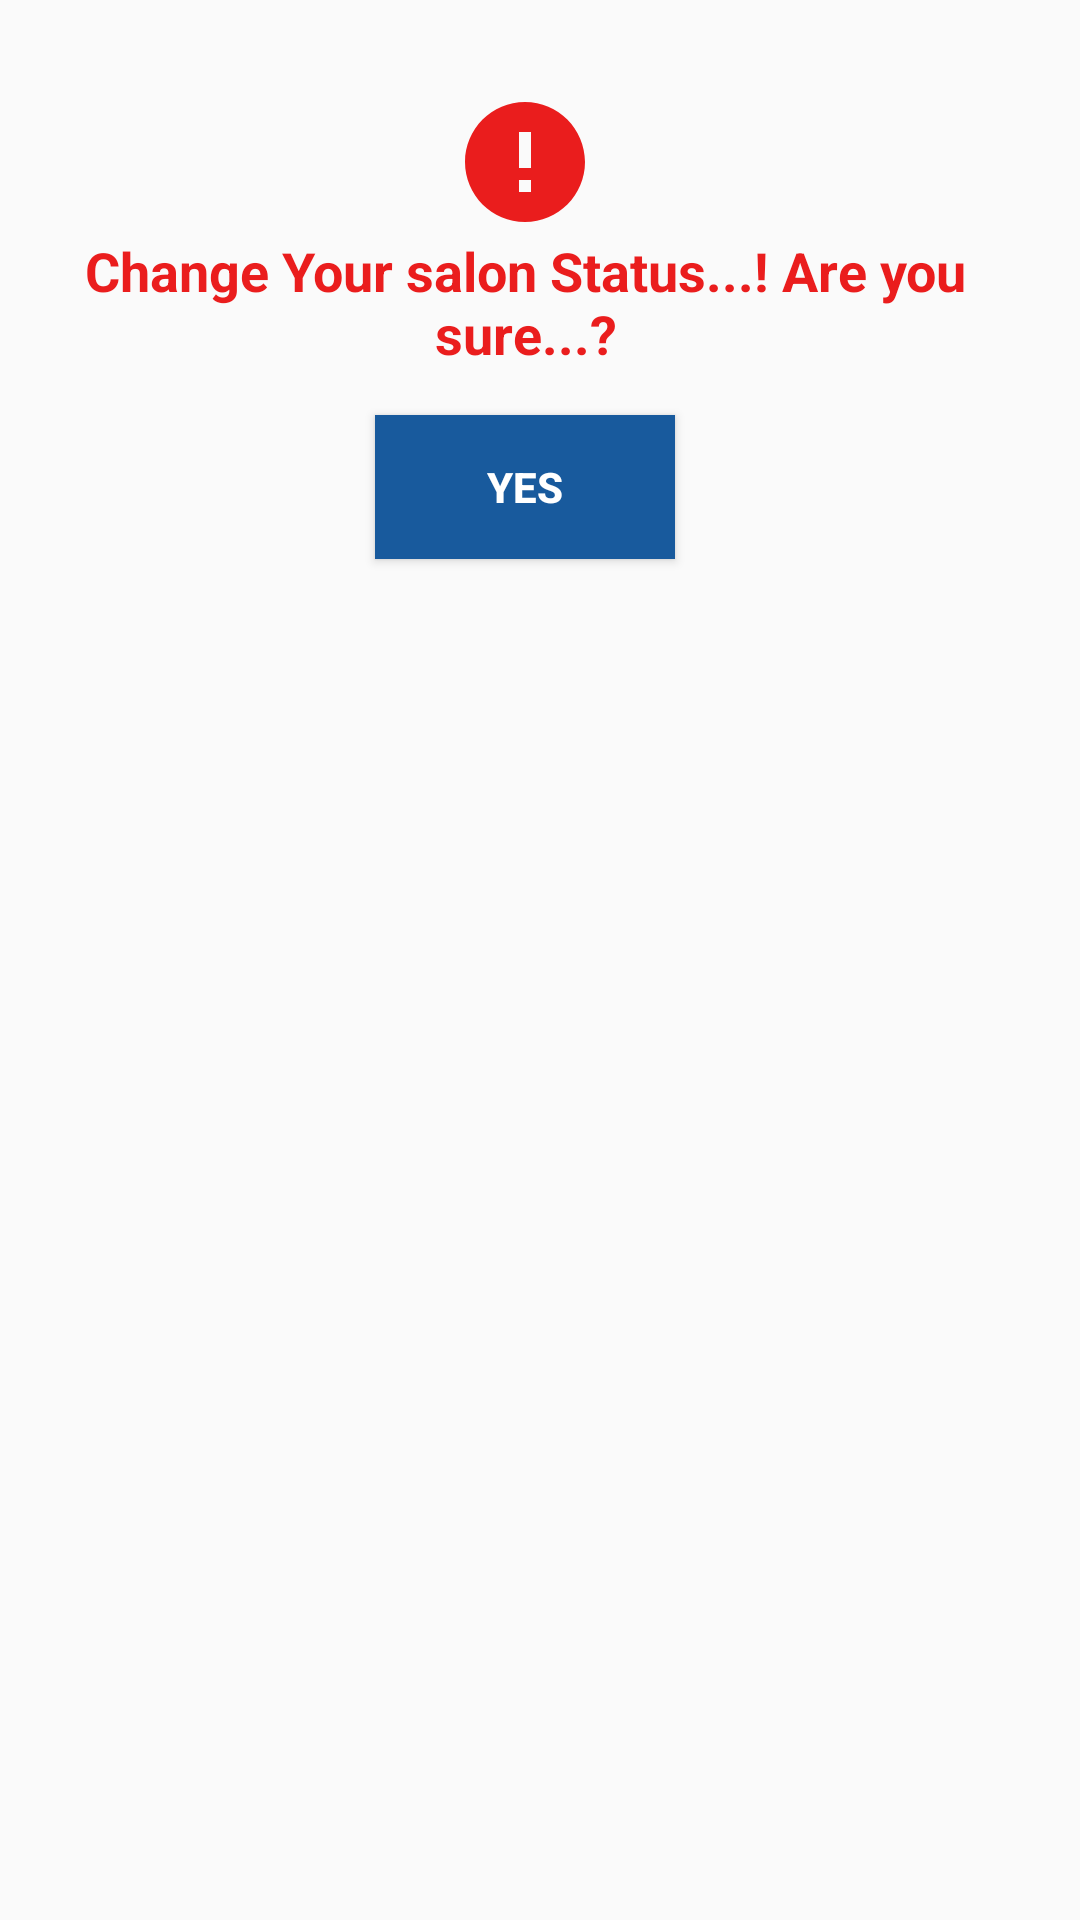

Icons on this 1080px×1920px Android screen, each with its box as (x1, y1, x2, y2):
warning: (465, 102, 585, 222)
